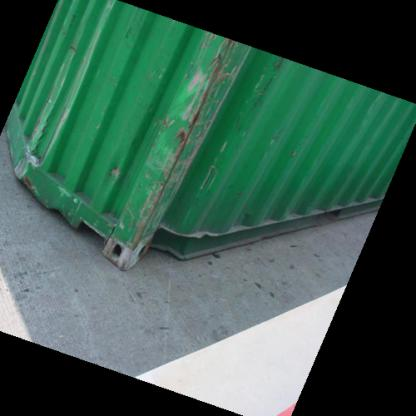Damage: (122, 46, 230, 252), (19, 43, 65, 186)
